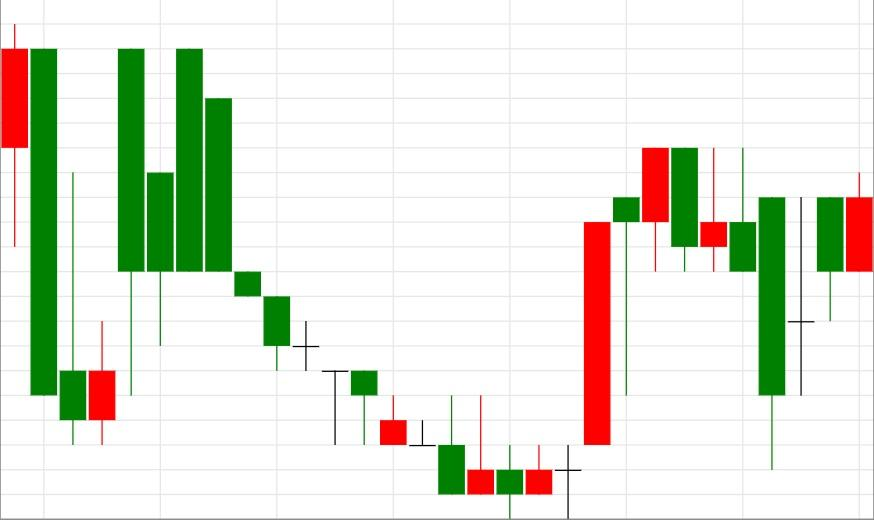bearish_engulfing_fall: (496, 148, 699, 519)
hanging_man_fall: (495, 197, 641, 519)
inverse_hammer_rise: (176, 48, 496, 496), (0, 23, 87, 445)
